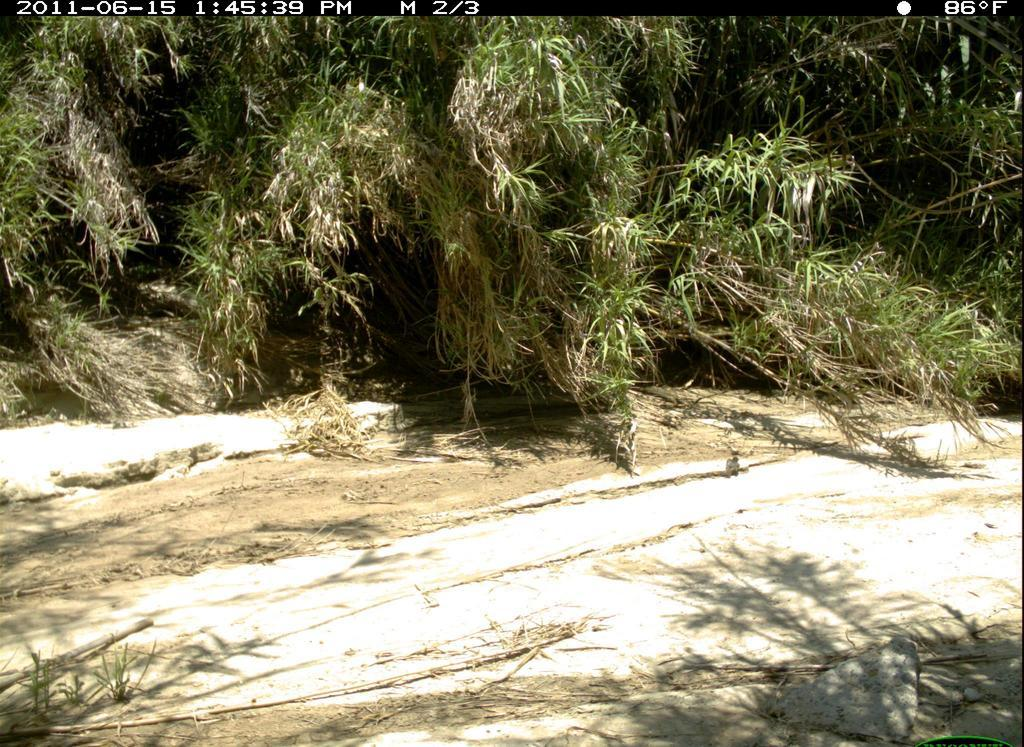bird: (719, 453, 749, 482)
